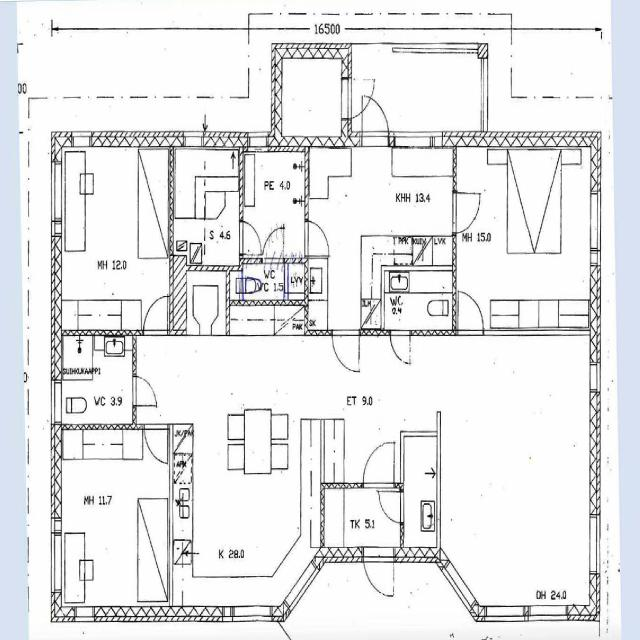door: (364, 546, 394, 606), (363, 436, 394, 488), (341, 78, 378, 118), (362, 92, 388, 146), (332, 329, 359, 375), (452, 192, 482, 232), (457, 291, 483, 335), (144, 292, 168, 334), (304, 220, 332, 256), (144, 423, 168, 465), (379, 491, 404, 522), (240, 222, 264, 254), (390, 329, 410, 365), (132, 375, 156, 405)
